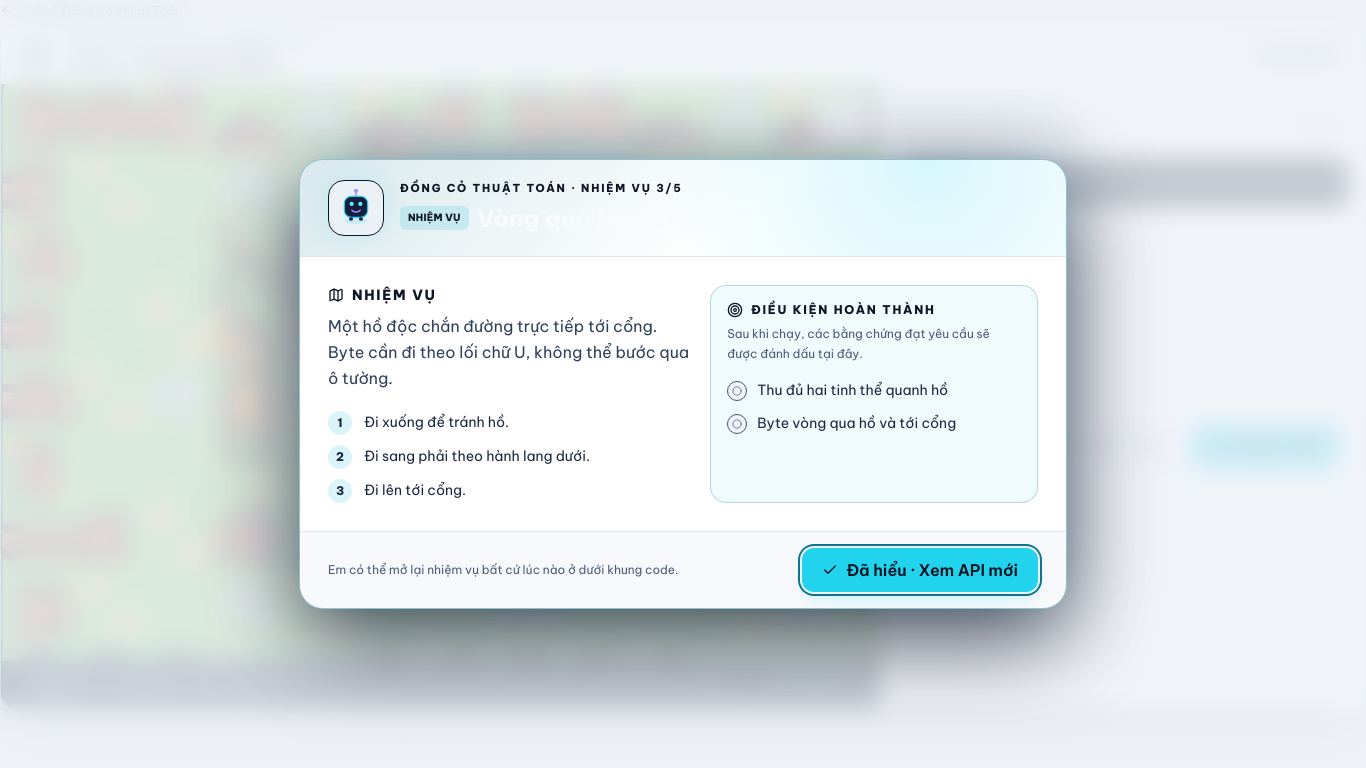
Test: Stage chung cho mọi nhiệm vụ › giới thiệu Game API mới trước khi vào bản đồ và không cung cấp nút chèn code
Click the button "Đã hiểu · Xem API mới" at (920,570), box 802,548 -> 1038,592
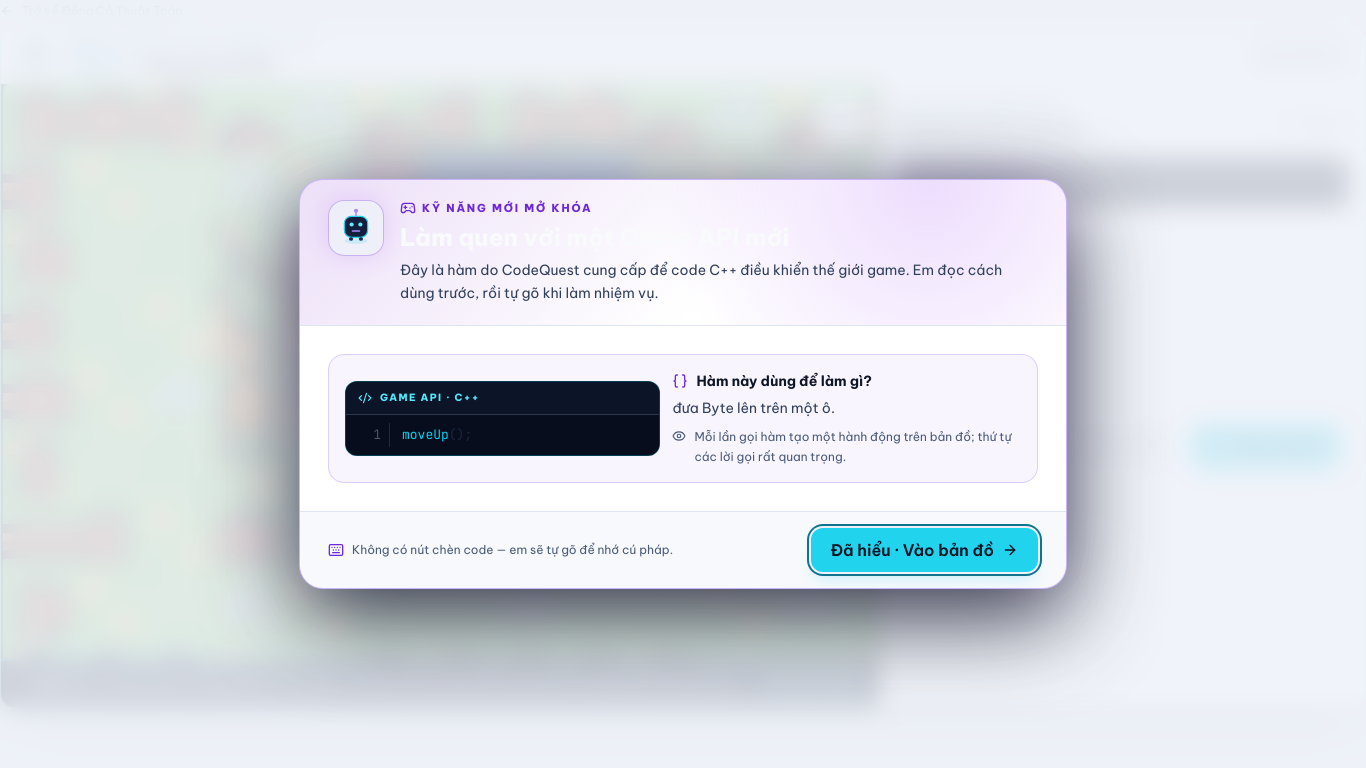
Expected: the dialog "Game API mới" shows "moveUp();"
Expected: the dialog "Game API mới" shows "tự gõ", 400,261 -> 1002,302
Click the button "Đã hiểu · Vào bản đồ" at (924,550), box 810,528 -> 1038,572
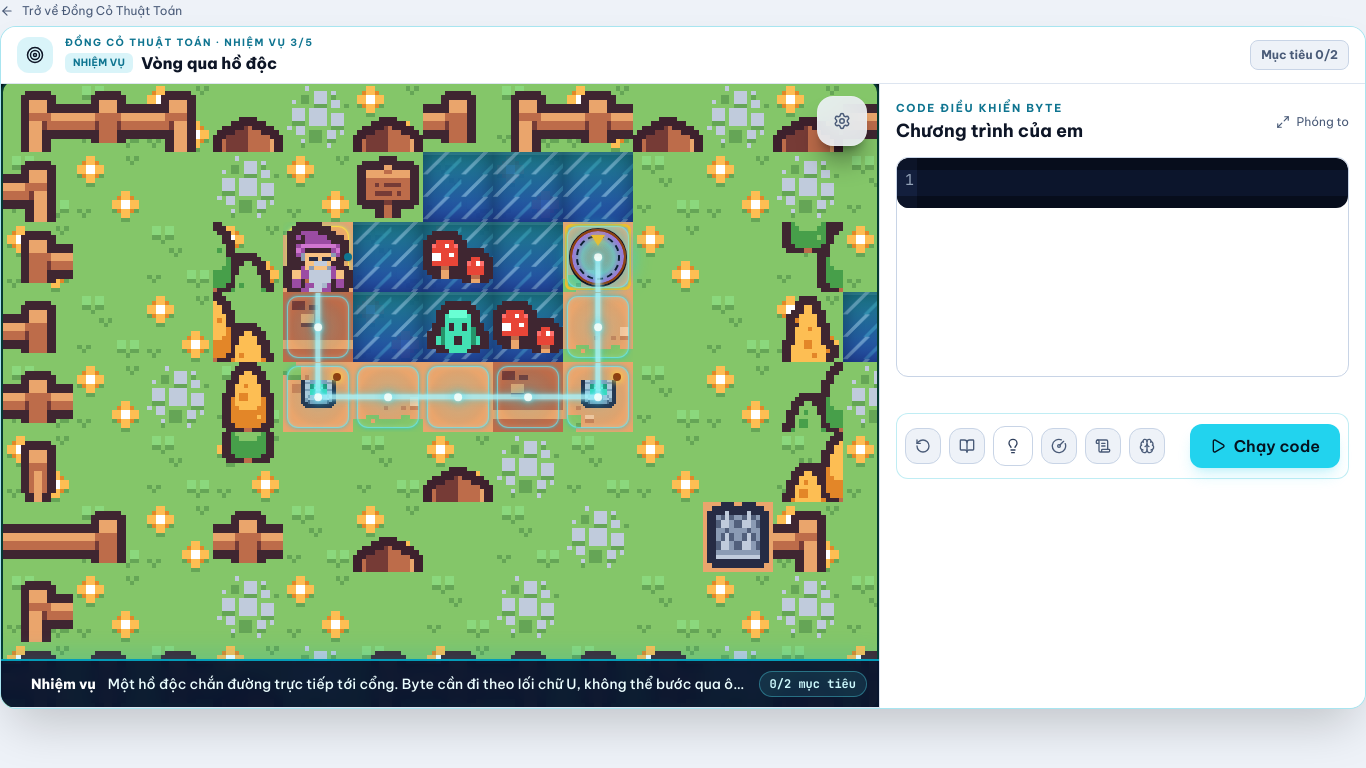
Expected: the dialog is gone
